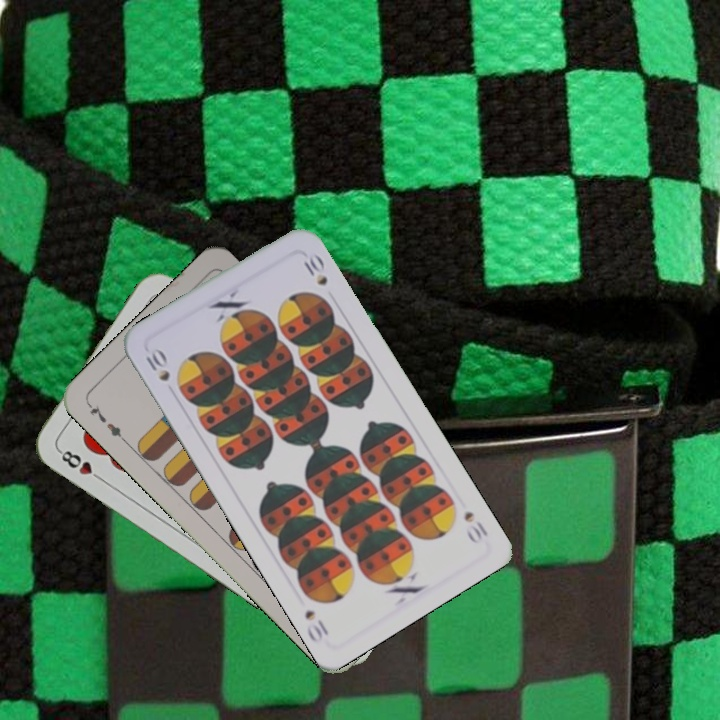E7: (83, 399, 129, 445)
H8: (54, 445, 107, 484)
S10: (141, 344, 173, 384), (459, 506, 491, 546)
